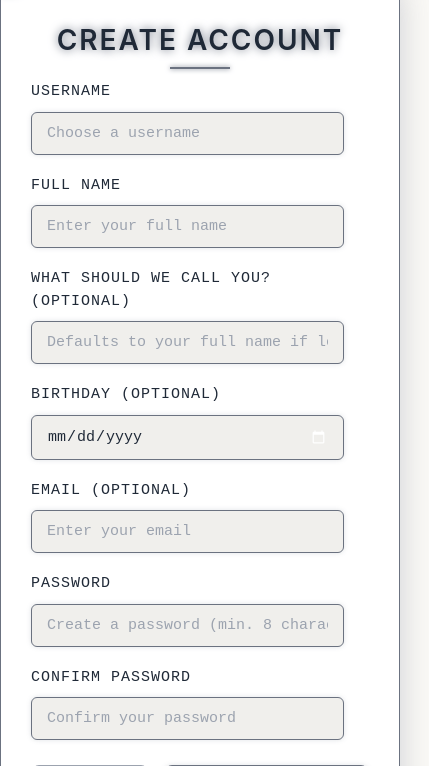
RegisterForm › Error Handling › should display error message when registration fails
Type "testuser" into the field labelled "Username" at {"x": 188, "y": 133}, box [31, 112, 344, 154]
Type "Test User Full Name" into the field labelled "Full Name" at {"x": 188, "y": 226}, box [31, 205, 344, 248]
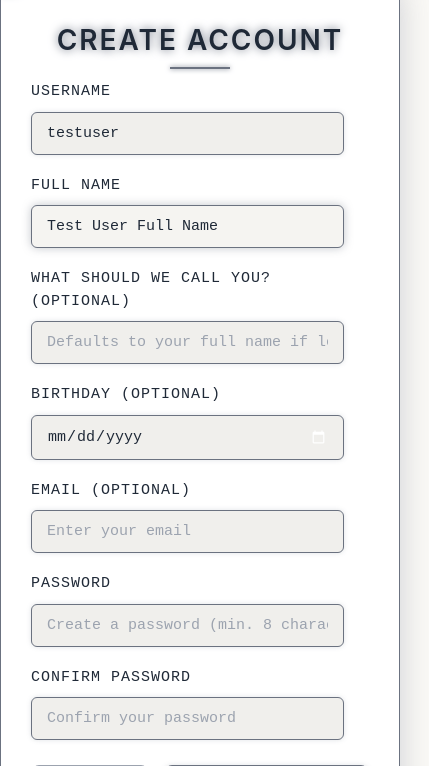
Type "Test Preferred Name" into the field labelled "What should we call you? (optional)" at {"x": 188, "y": 342}, box [31, 321, 344, 364]
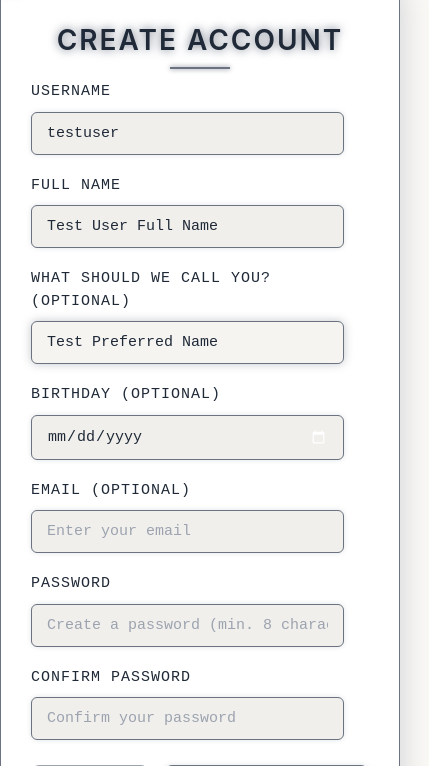
Type "1990-01-01" into the date field labelled "Birthday (optional)" at {"x": 188, "y": 437}, box [31, 414, 344, 460]
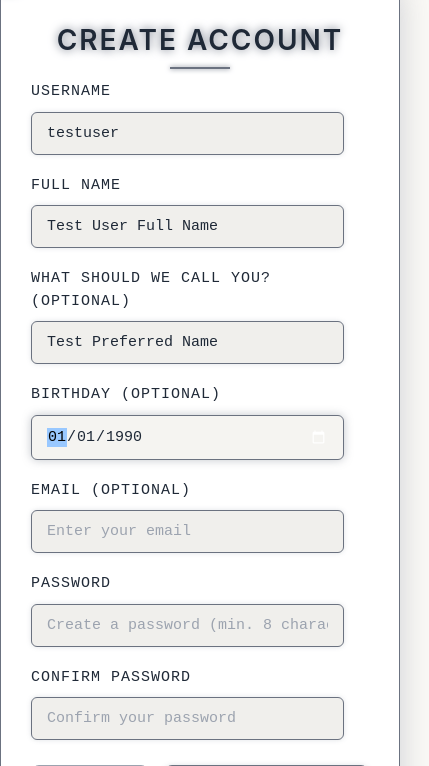
Type "password123" into the password field labelled "Password" at {"x": 188, "y": 625}, box [31, 604, 344, 646]
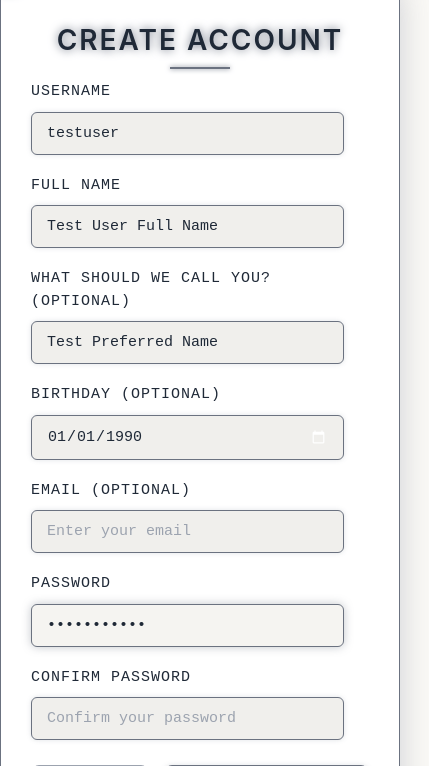
Type "password123" into the password field labelled "Confirm Password" at {"x": 188, "y": 718}, box [31, 697, 344, 740]
(page scrolled)
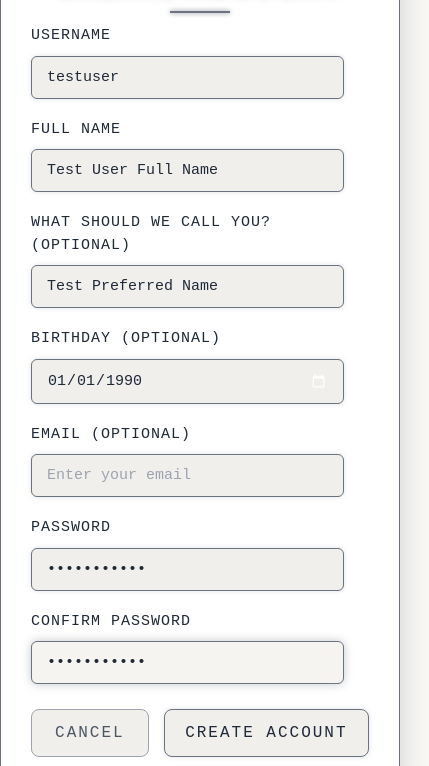
Click the button "Create Account" at {"x": 266, "y": 733}, box [164, 709, 369, 757]
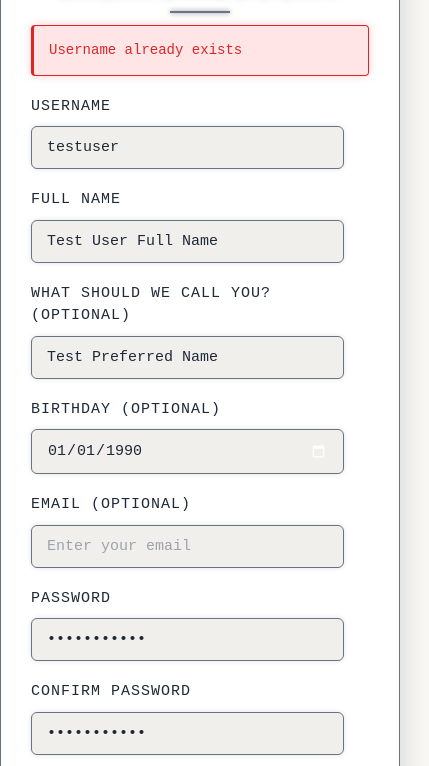
Expected: the text "Username already exists" is shown, [31, 25, 369, 76]
